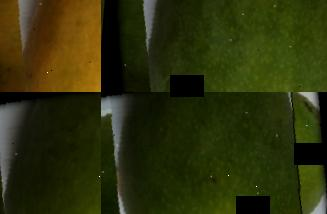PartiallyRipe: (0, 0, 101, 92)
Unripe: (101, 92, 327, 214), (104, 0, 327, 92), (0, 92, 101, 214)
